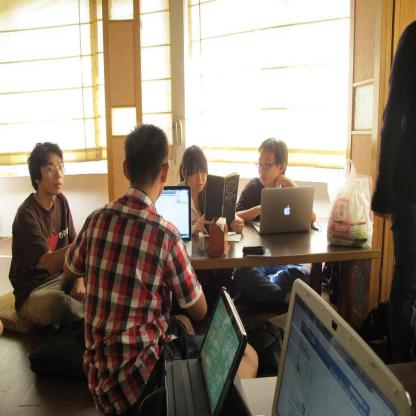board: (272, 278, 414, 416), (250, 184, 314, 234), (155, 188, 192, 260)
